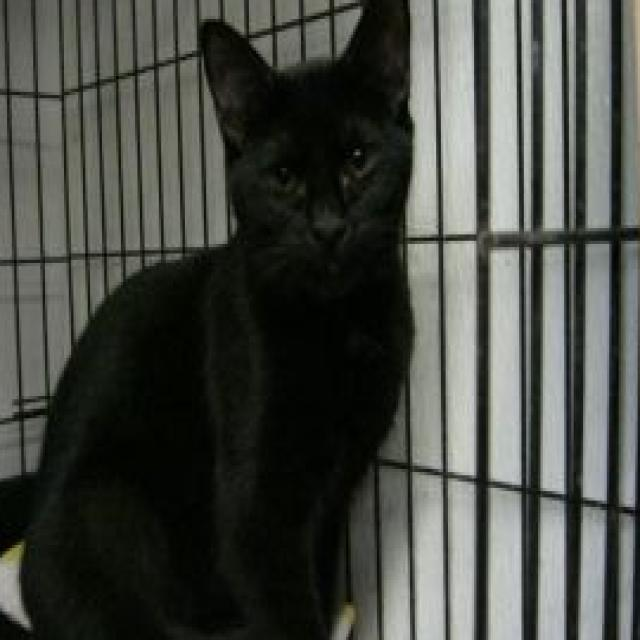Bombay: (0, 0, 422, 640)
